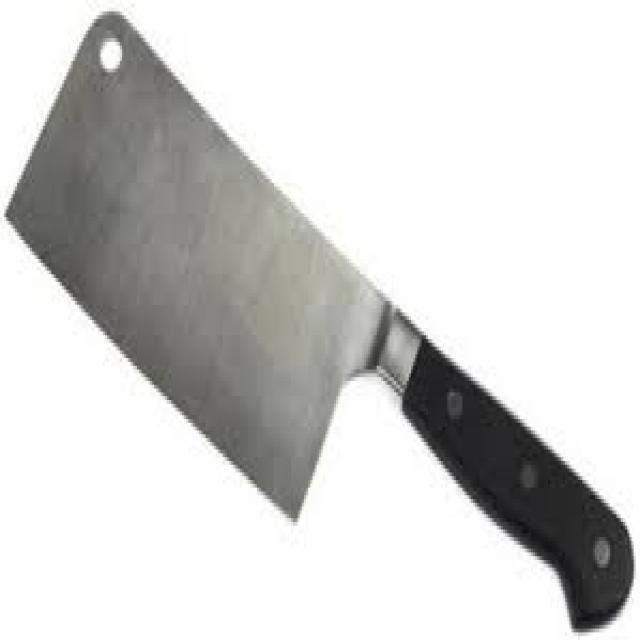knives: (2, 4, 634, 632)
